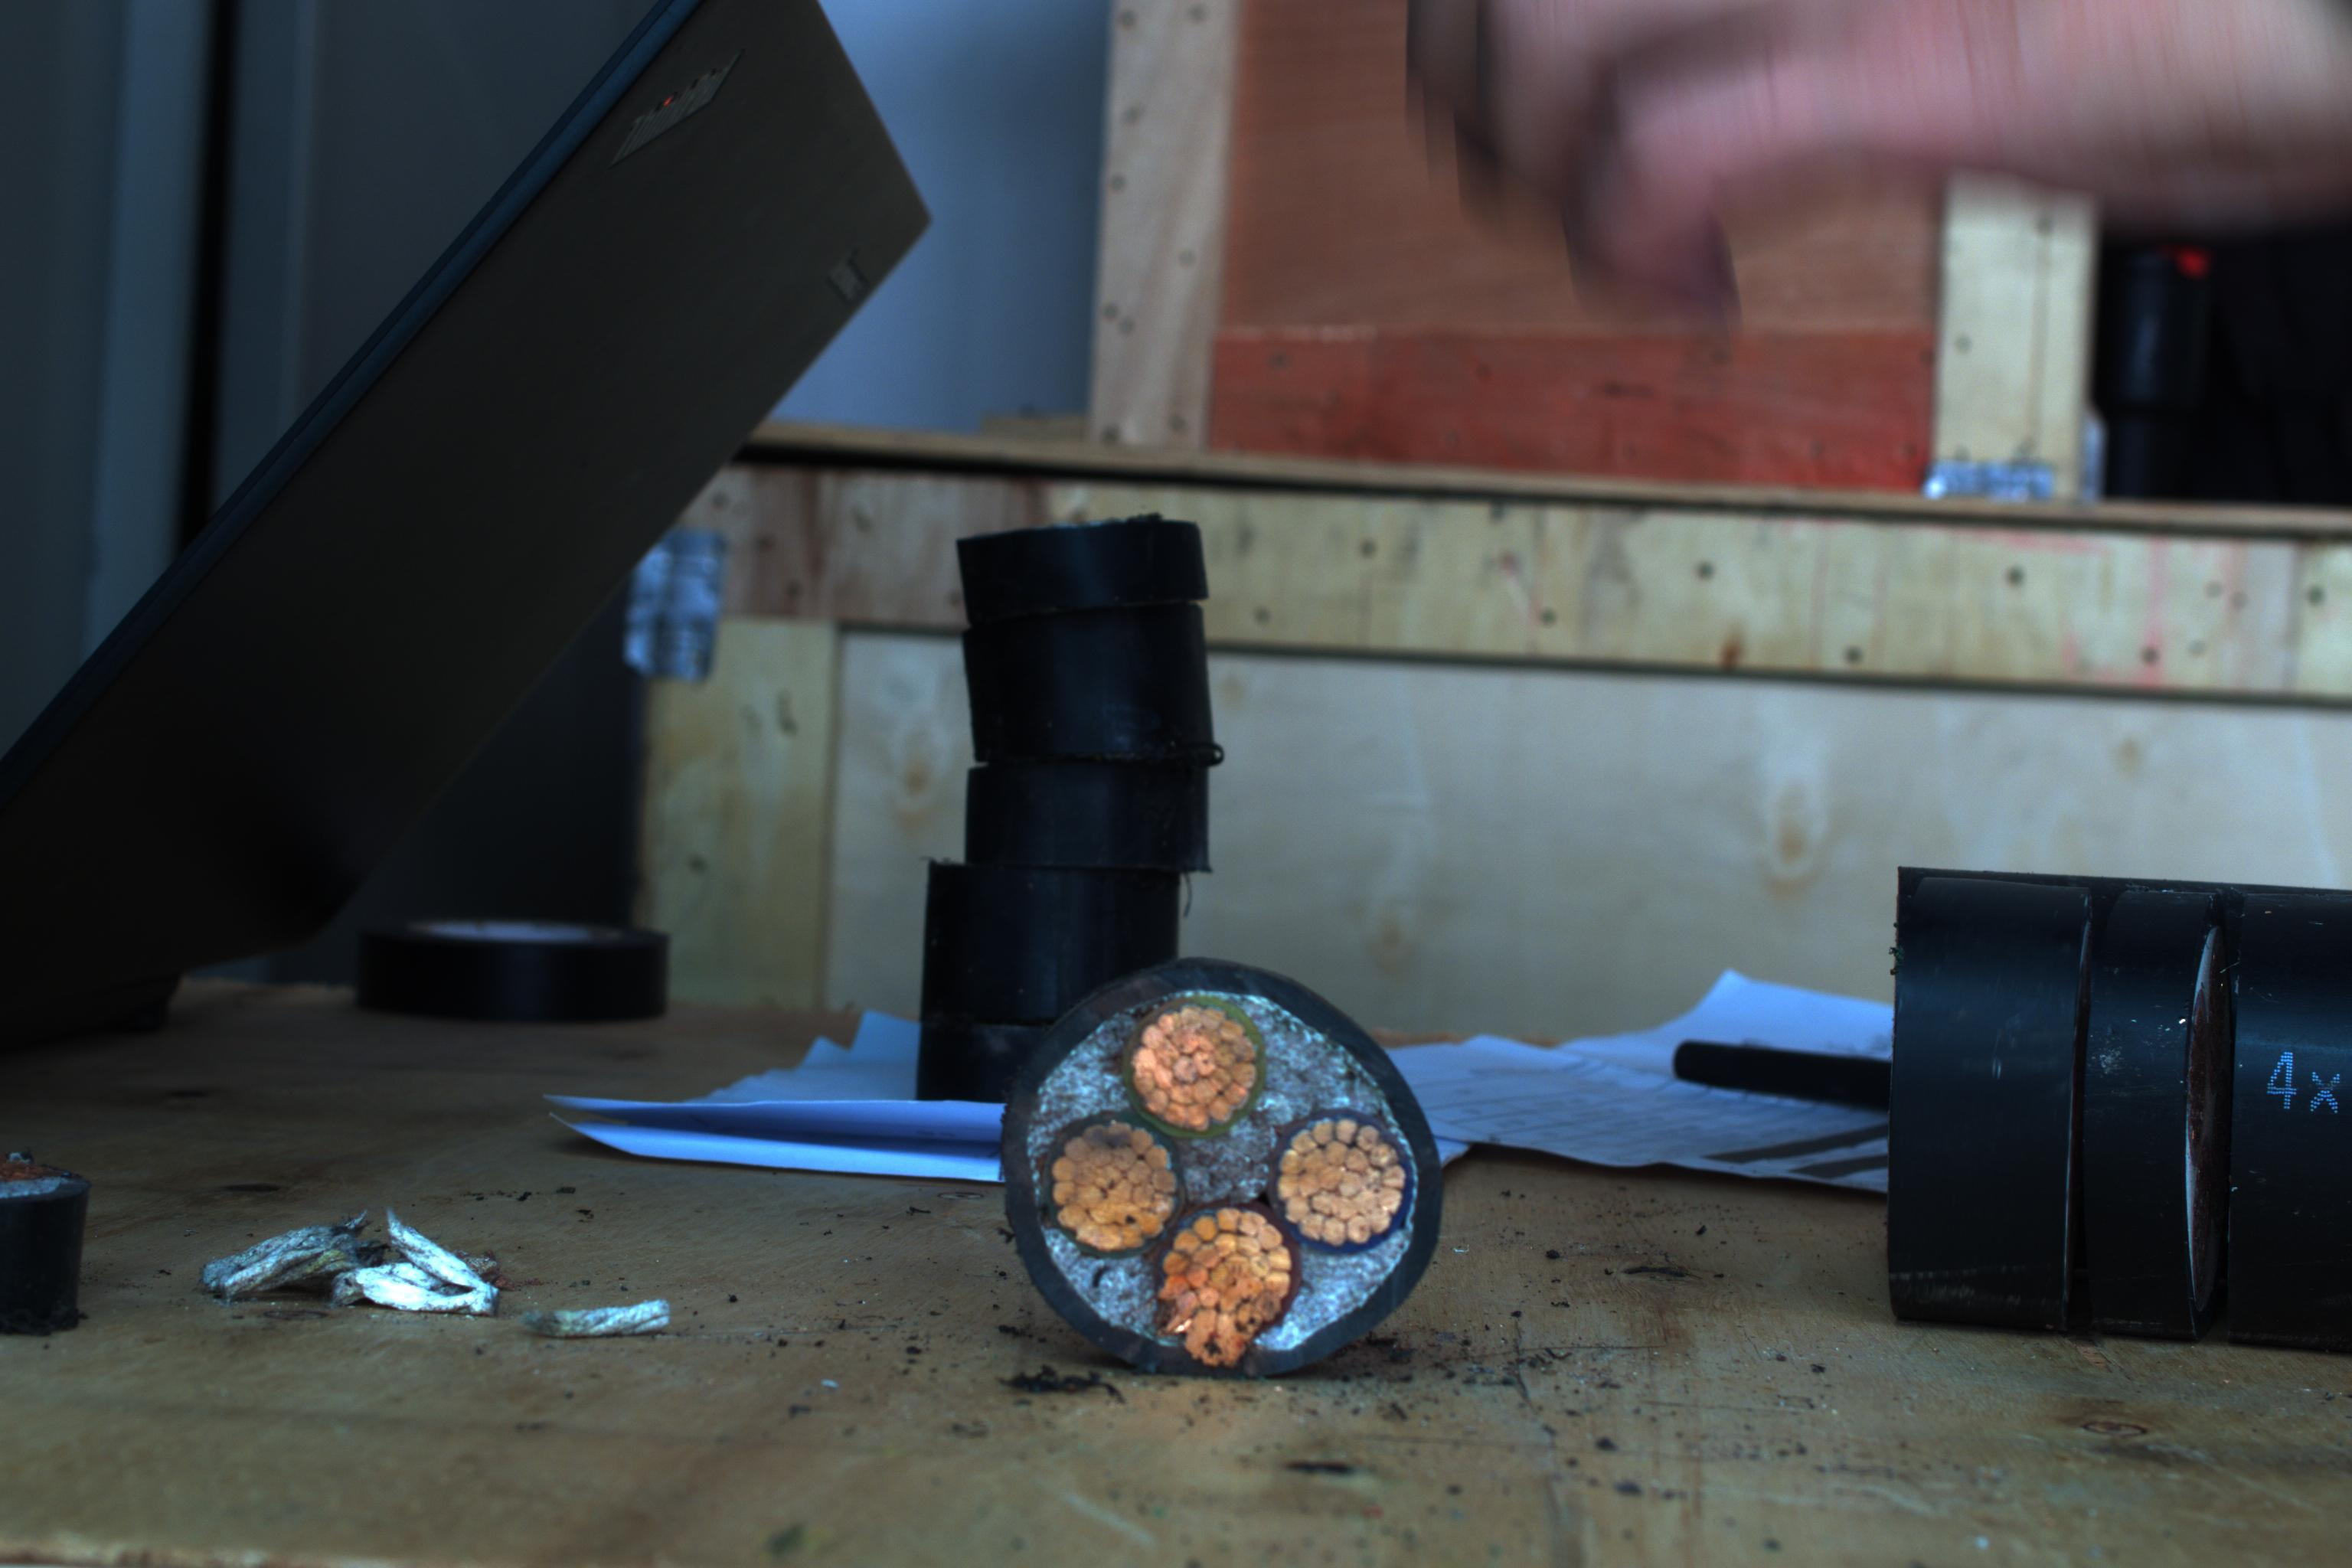YJV_0.6_1kV_4x120: (1006, 976, 1445, 1375)
